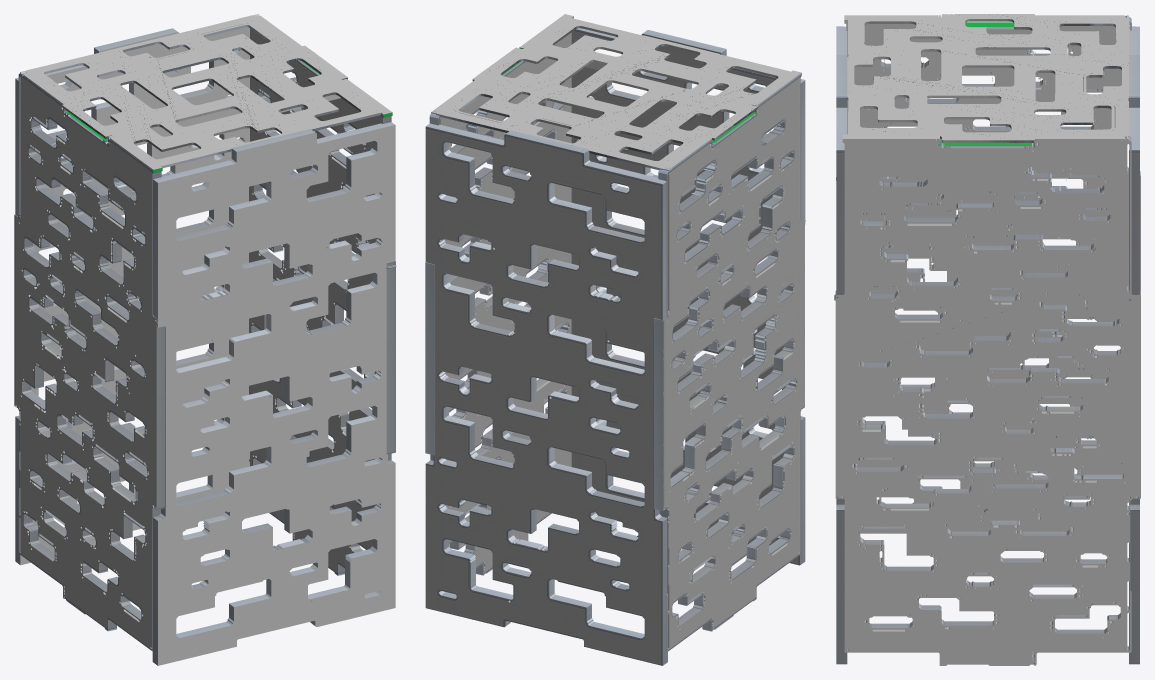
File: lampe_STI2D.glb
The picture shows the model from 3 angles, left to right: view 1: azimuth 30°, elevation 25°; view 2: azimuth 150°, elevation 25°; view 3: azimuth 270°, elevation 25°; orthographic projection. The views are drawn at different scales.
Size of the model in its own units: 0.0409 by 0.0798 by 0.042.
Materials: 4 (3 with a texture image).
